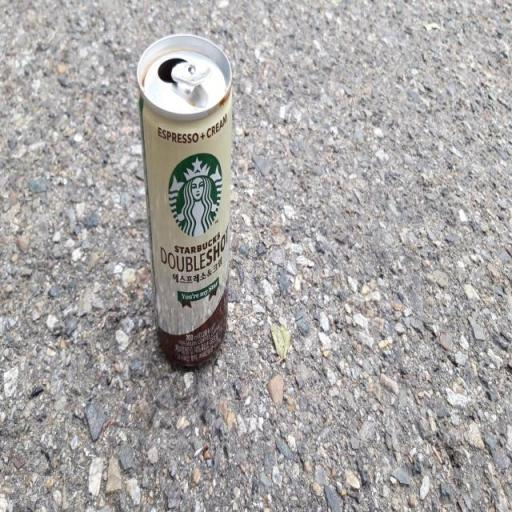metal: (128, 28, 242, 389)
